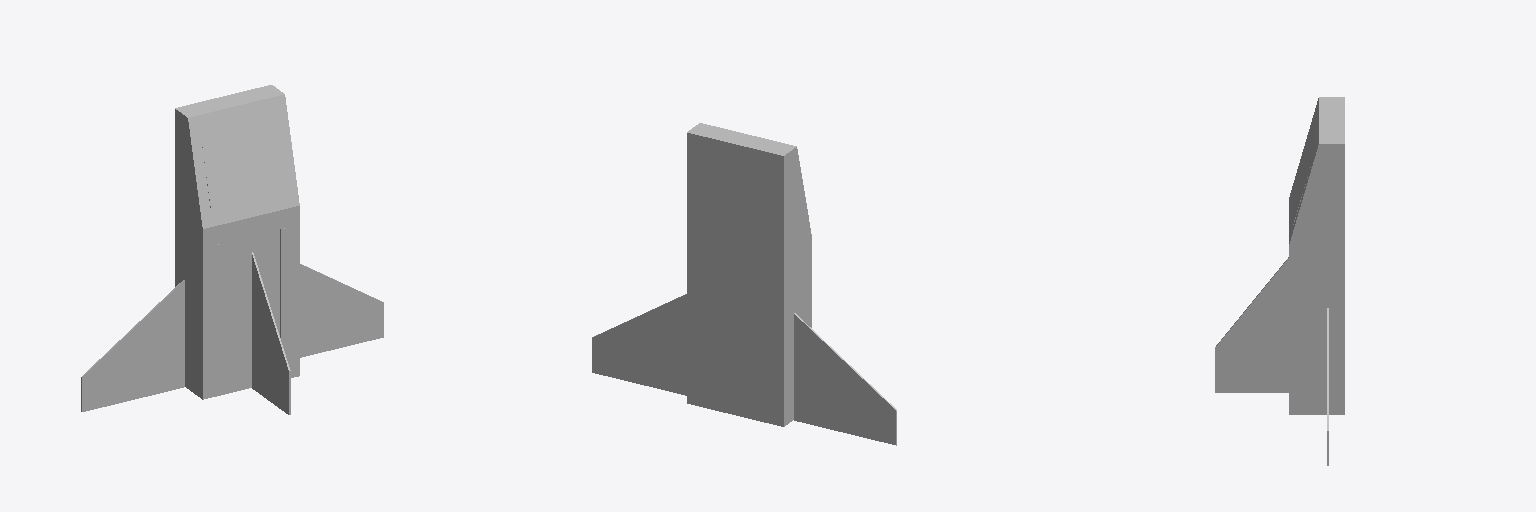
The model's file is newPlayer.obj.
3 renders of one model, left to right at view 1: azimuth 30°, elevation 25°; view 2: azimuth 150°, elevation 25°; view 3: azimuth 270°, elevation 25°, orthographic.
Parts seen in each view (by area): view 1: Box002, Line001, Box003, Line002, Line003, Box004, Box005; view 2: Box002, Line001, Line002; view 3: Box002, Line003, Box003.
Part boxes in pixels (bbox=[...]): Box002: bbox=[175, 85, 299, 399]; Line001: bbox=[81, 280, 184, 411]; Box003: bbox=[200, 113, 287, 210]; Line002: bbox=[300, 264, 383, 357]; Line003: bbox=[252, 252, 290, 414]; Box004: bbox=[216, 244, 222, 371]; Box005: bbox=[280, 228, 286, 354]; Box002: bbox=[687, 123, 811, 426]; Line001: bbox=[794, 313, 896, 445]; Line002: bbox=[592, 294, 686, 395]; Box002: bbox=[1289, 97, 1344, 414]; Line003: bbox=[1215, 257, 1288, 392]; Box003: bbox=[1293, 117, 1314, 224].
Bounding box in the file's own units: 46.81 × 40.04 × 17.5.